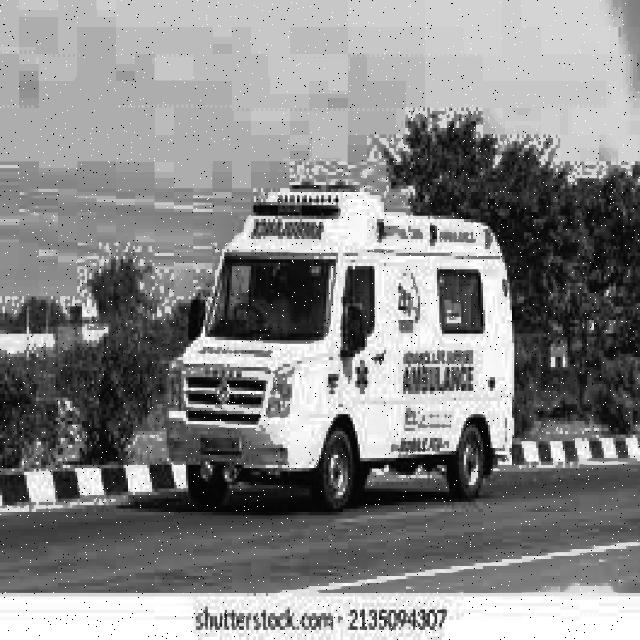Ambulance: (165, 178, 520, 492)
